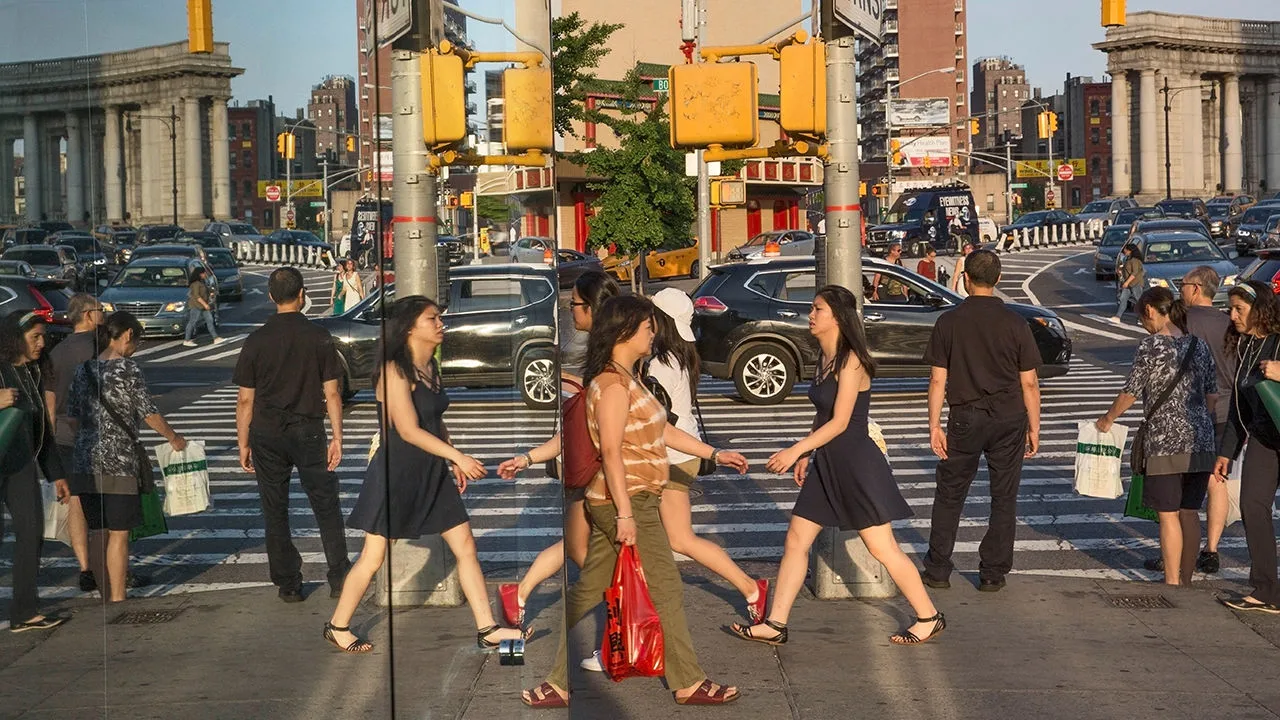person: (727, 266, 945, 652), (318, 293, 525, 661), (563, 294, 738, 711), (903, 246, 1048, 595), (230, 265, 357, 612), (59, 313, 185, 611), (1104, 284, 1213, 604), (1220, 280, 1280, 620), (1, 302, 57, 638), (184, 261, 226, 349), (1107, 238, 1152, 316)
